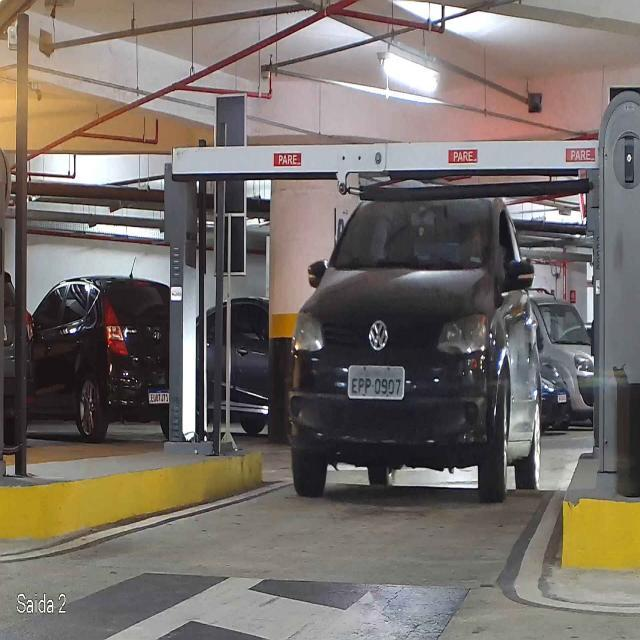old_plate: (346, 364, 406, 401)
